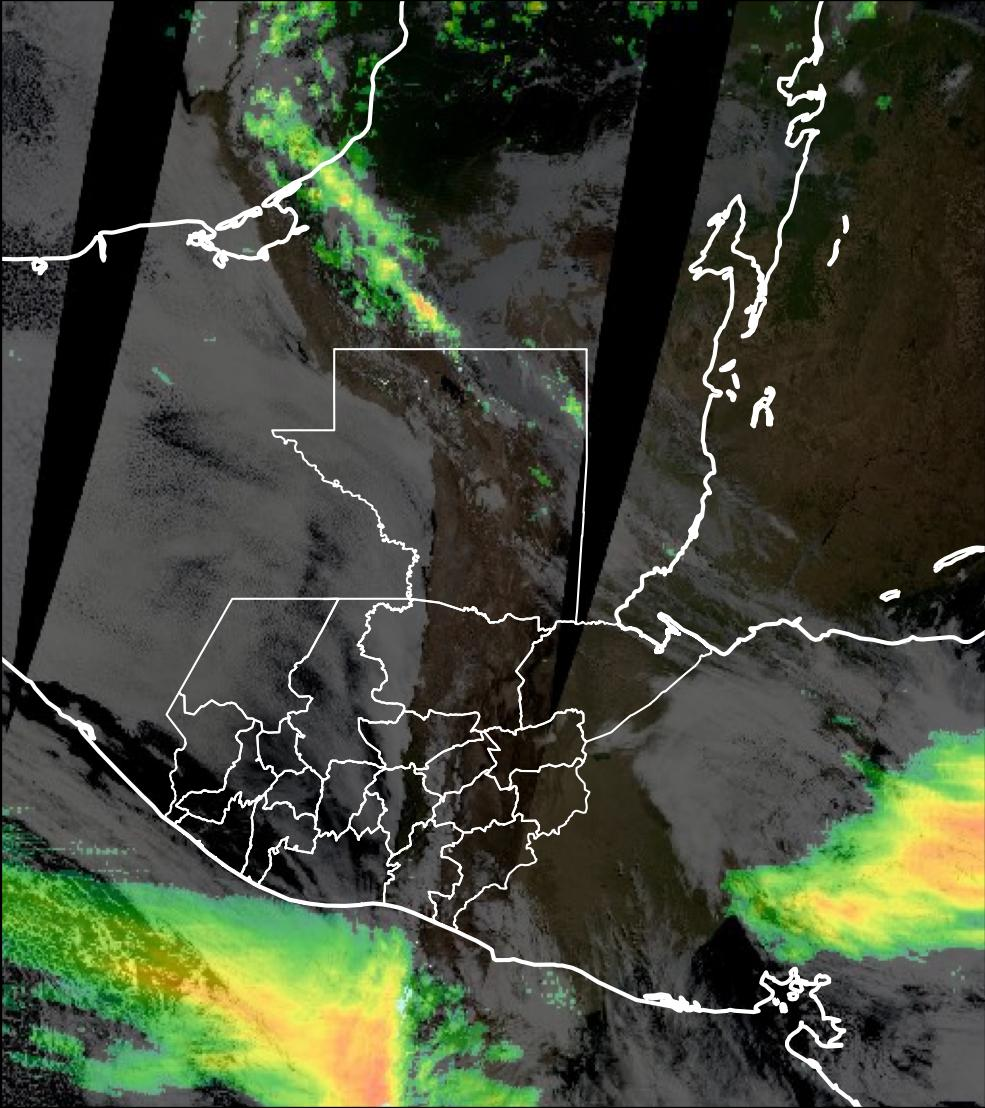precipitacion: (882, 771, 985, 936), (280, 988, 398, 1108)
